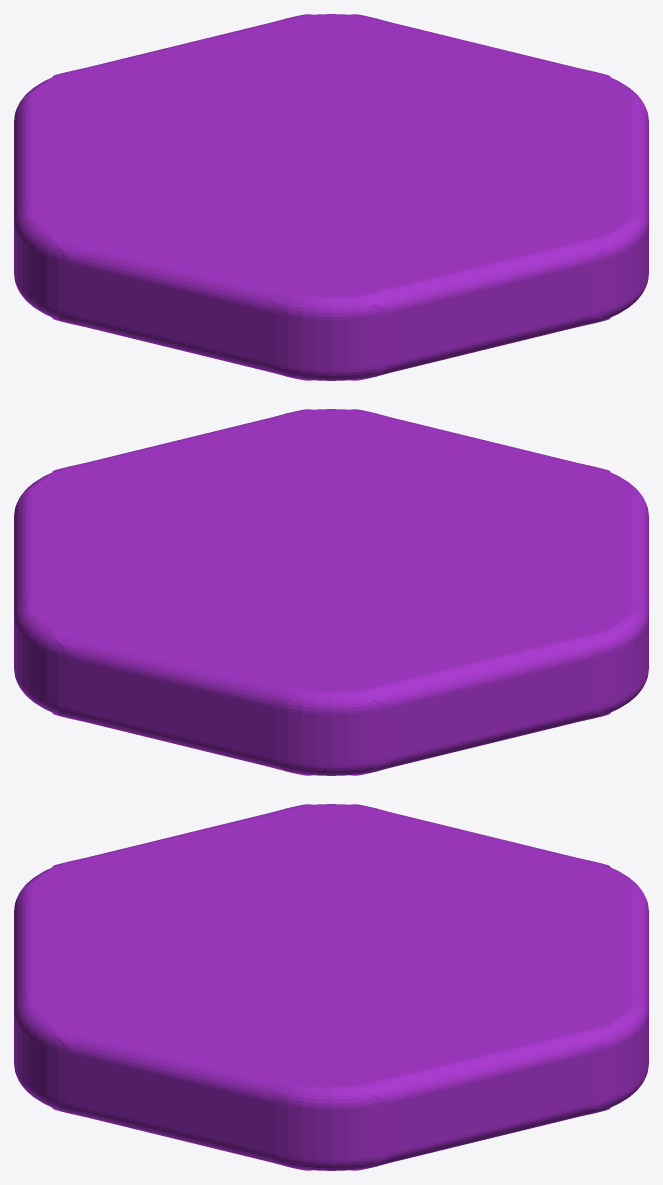
The model's file is Platform2.fbx.
3 renders of one model, top to bottom at view 1: azimuth 30°, elevation 25°; view 2: azimuth 150°, elevation 25°; view 3: azimuth 270°, elevation 25°, orthographic.
Visible parts, largest first — view 1: Cylinder_4; view 2: Cylinder_4; view 3: Cylinder_4.
Boxes of the visible parts, x1,y1,x2,y2 form: Cylinder_4: (14, 14, 648, 380); Cylinder_4: (14, 409, 648, 775); Cylinder_4: (14, 804, 648, 1170).
Bounding box in the file's own units: 2175 × 288 × 1977.
